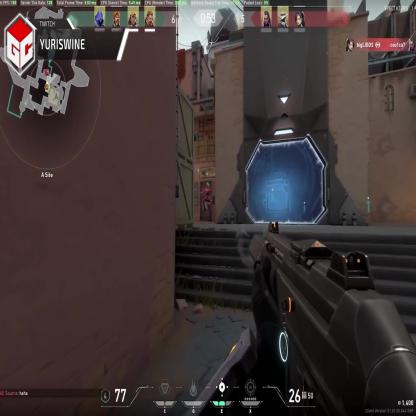enemy: (200, 182, 212, 222)
enemy_head: (206, 183, 210, 189)
